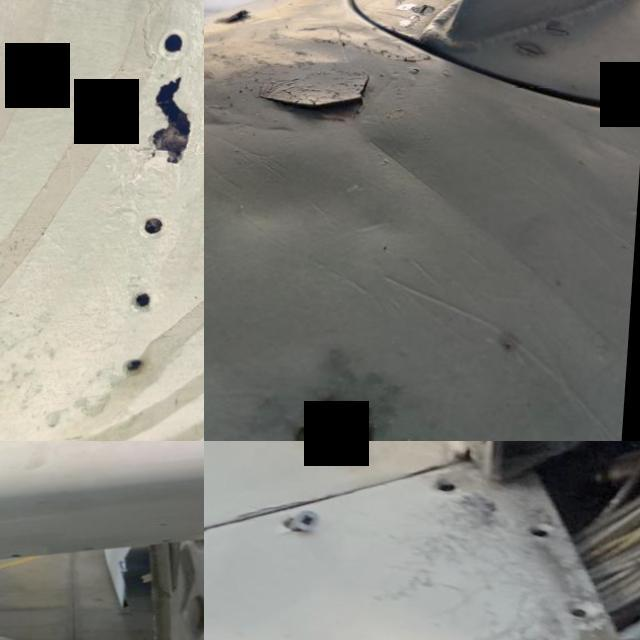Crack: (244, 44, 394, 134), (123, 53, 204, 185)
Dent: (205, 131, 364, 255)
Missing_Fastener: (528, 520, 560, 541), (434, 474, 466, 494), (569, 604, 605, 619), (16, 552, 29, 560)
